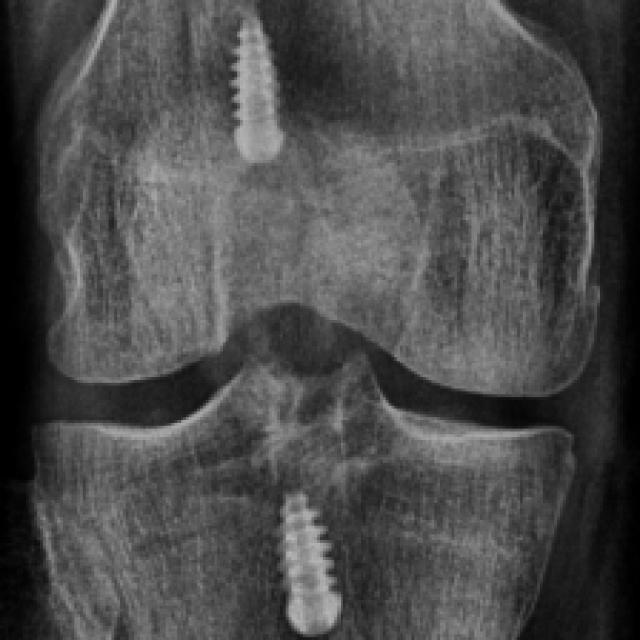femur: (34, 0, 605, 398)
tibia: (32, 347, 577, 640)
